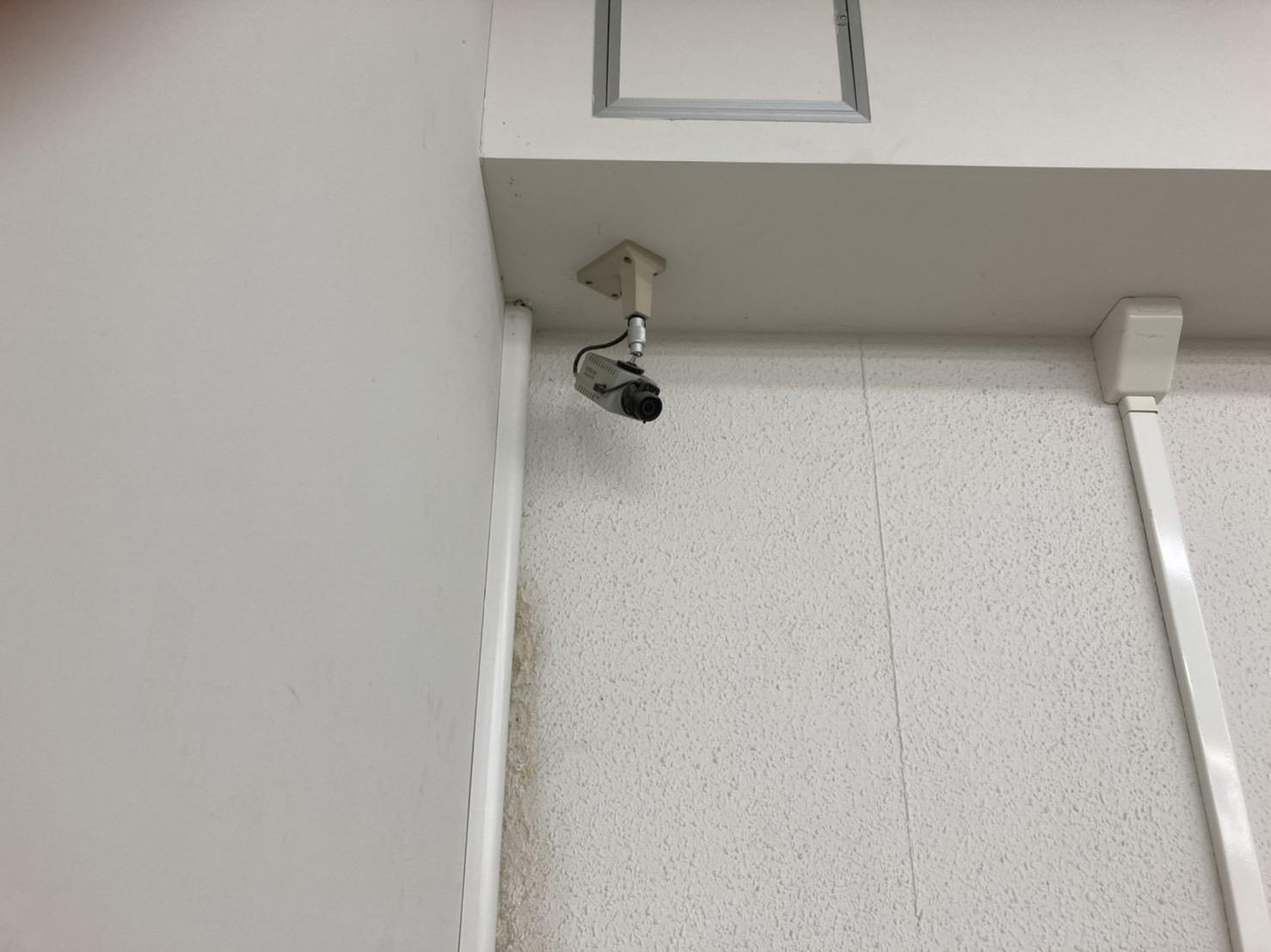tutu: (562, 342, 683, 428)
